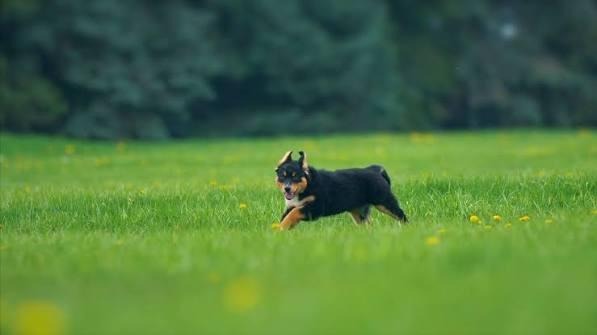puppy-dog: (272, 150, 409, 233)
